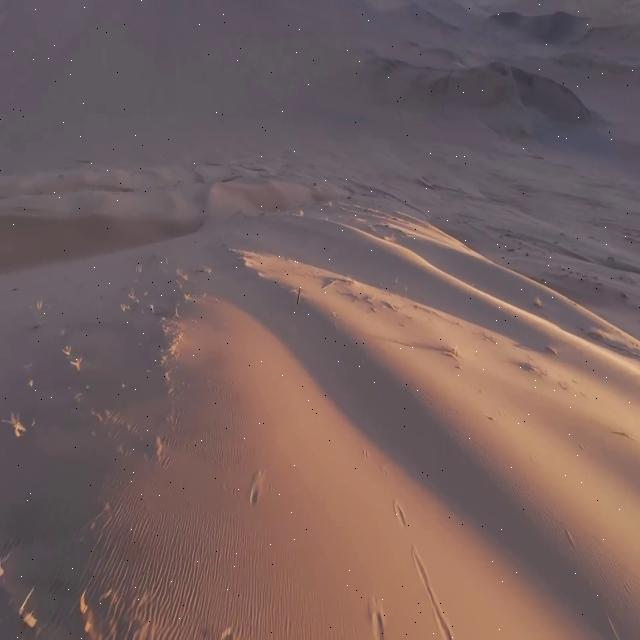Tire: (297, 286, 300, 304)
